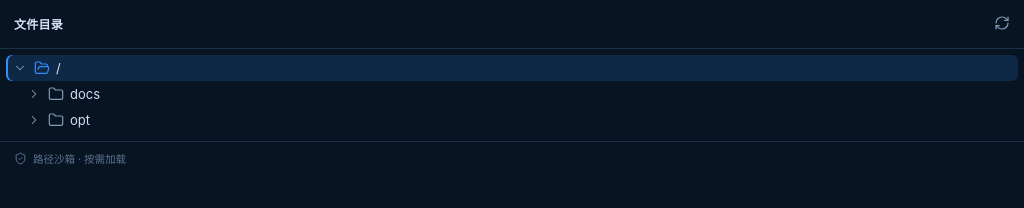
Test case: DirectoryTree › reports load failures per node and retries on demand
Click the element with class "ed-tree-row" showing "docs" at (63,94), box [26,86,100,102]
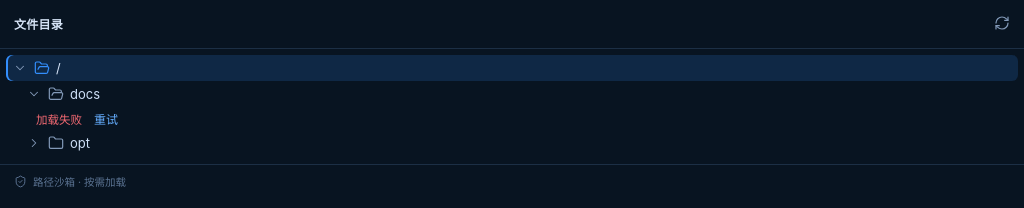
Check: the element with class "ed-tree-error" shows "加载失败", box [36,112,82,126]
Click the button with class "ed-link" at (106,118), box [88,110,124,127]
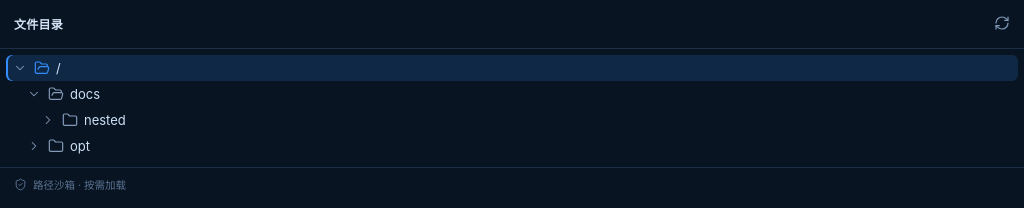
Check: the element with class "ed-tree-error" is gone
